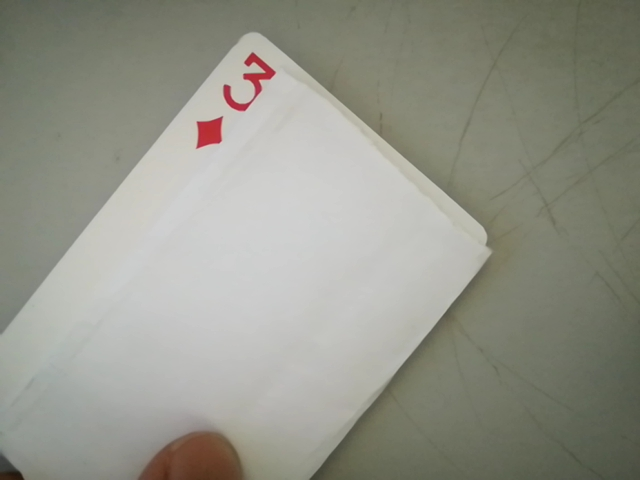fk 3: (190, 43, 283, 154)
